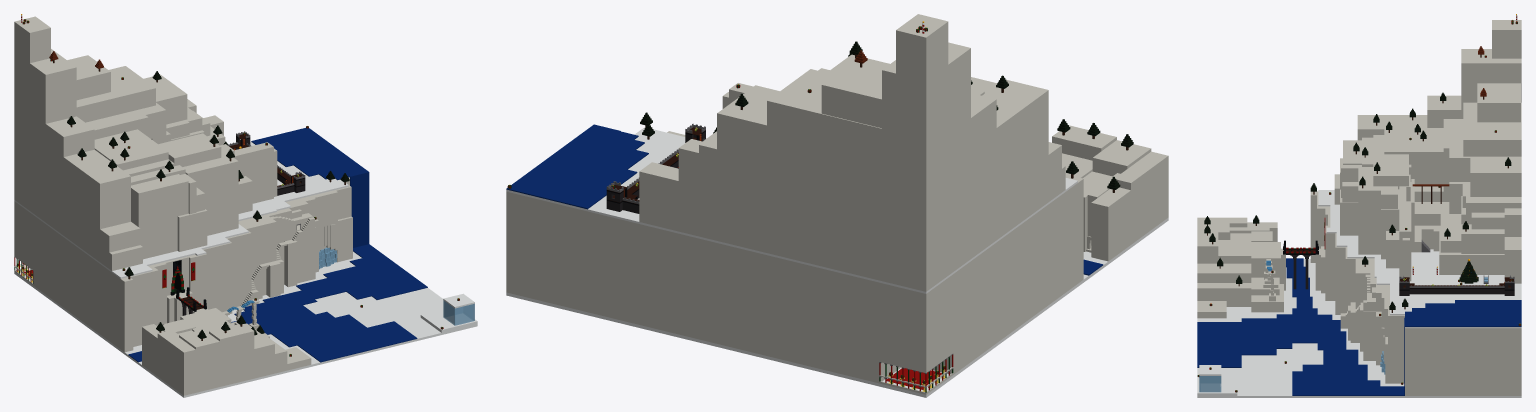
The model's file is SantaWS.obj.
The picture shows the model from 3 angles, left to right: view 1: azimuth 30°, elevation 25°; view 2: azimuth 150°, elevation 25°; view 3: azimuth 270°, elevation 25°; orthographic projection. The views are drawn at different scales.
Visible parts, largest first — view 1: SmoothBlockModel2934, SmoothBlockModel3082, SmoothBlockModel28, SmoothBlockModel3116, SmoothBlockModel3120, SmoothBlockModel3113, SmoothBlockModel3084, SmoothBlockModel3070, SmoothBlockModel3121, SmoothBlockModel3208, SmoothBlockModel3122, SmoothBlockModel3219 (+46 smaller); view 2: SmoothBlockModel2904, SmoothBlockModel3082, SmoothBlockModel2934, SmoothBlockModel3116, SmoothBlockModel2903, SmoothBlockModel3074, SmoothBlockModel3070, SmoothBlockModel3122, SmoothBlockModel3121, SmoothBlockModel3084, SmoothBlockModel3077, SmoothBlockModel3075 (+20 smaller); view 3: SmoothBlockModel2905, SmoothBlockModel28, SmoothBlockModel3084, SmoothBlockModel3070, SmoothBlockModel3082, SmoothBlockModel3219, SmoothBlockModel3088, SmoothBlockModel3208, SmoothBlockModel3113, SmoothBlockModel3083, SmoothBlockModel3105, SmoothBlockModel3209 (+62 smaller).
Part boxes in pixels (x1,y1,x2,y2): SmoothBlockModel2934: (33,215,133,352); SmoothBlockModel3082: (14,49,76,188); SmoothBlockModel28: (228,251,477,382); SmoothBlockModel3116: (45,144,130,229); SmoothBlockModel3120: (131,174,188,259); SmoothBlockModel3113: (183,152,238,235); SmoothBlockModel3084: (76,66,155,122); SmoothBlockModel3070: (259,128,357,176); SmoothBlockModel3121: (14,167,140,252); SmoothBlockModel3208: (297,321,417,362); SmoothBlockModel3122: (14,183,142,270); SmoothBlockModel3219: (323,258,422,299); SmoothBlockModel2904: (544,201,885,383); SmoothBlockModel3082: (882,42,970,244); SmoothBlockModel2934: (941,176,1083,374); SmoothBlockModel3116: (971,79,1048,211); SmoothBlockModel2903: (879,274,953,371); SmoothBlockModel3074: (782,129,881,206); SmoothBlockModel3070: (506,136,648,206); SmoothBlockModel3122: (882,165,1065,291); SmoothBlockModel3121: (882,142,1061,267); SmoothBlockModel3084: (767,69,881,153); SmoothBlockModel3077: (699,162,756,250); SmoothBlockModel3075: (827,193,881,280); SmoothBlockModel2905: (1405,328,1521,395); SmoothBlockModel28: (1197,288,1458,397); SmoothBlockModel3084: (1463,102,1521,156); SmoothBlockModel3070: (1425,303,1521,326); SmoothBlockModel3082: (1461,49,1521,118); SmoothBlockModel3219: (1302,364,1367,395); SmoothBlockModel3088: (1470,156,1521,196); SmoothBlockModel3208: (1197,322,1241,367); SmoothBlockModel3113: (1358,167,1380,254); SmoothBlockModel3083: (1477,83,1520,122); SmoothBlockModel3105: (1384,128,1443,158); SmoothBlockModel3209: (1241,318,1276,355).
Size of the model in its own units: 512 by 434 by 512.
30 materials, 1 textured.
